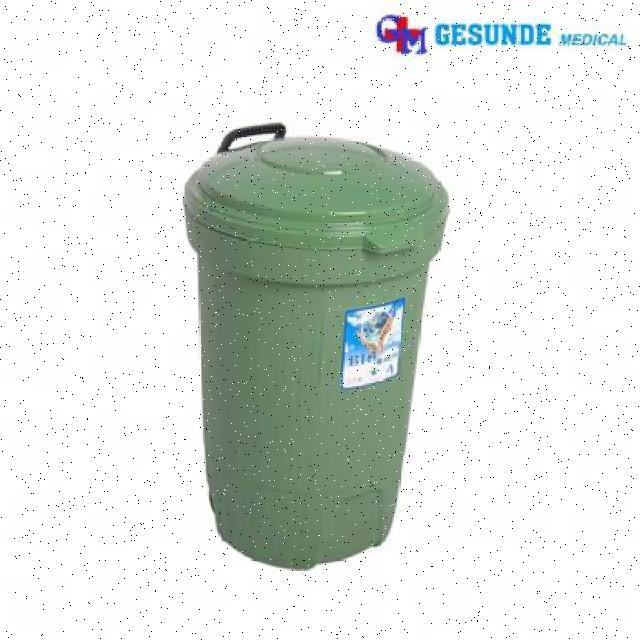garbage container: (163, 117, 465, 588)
